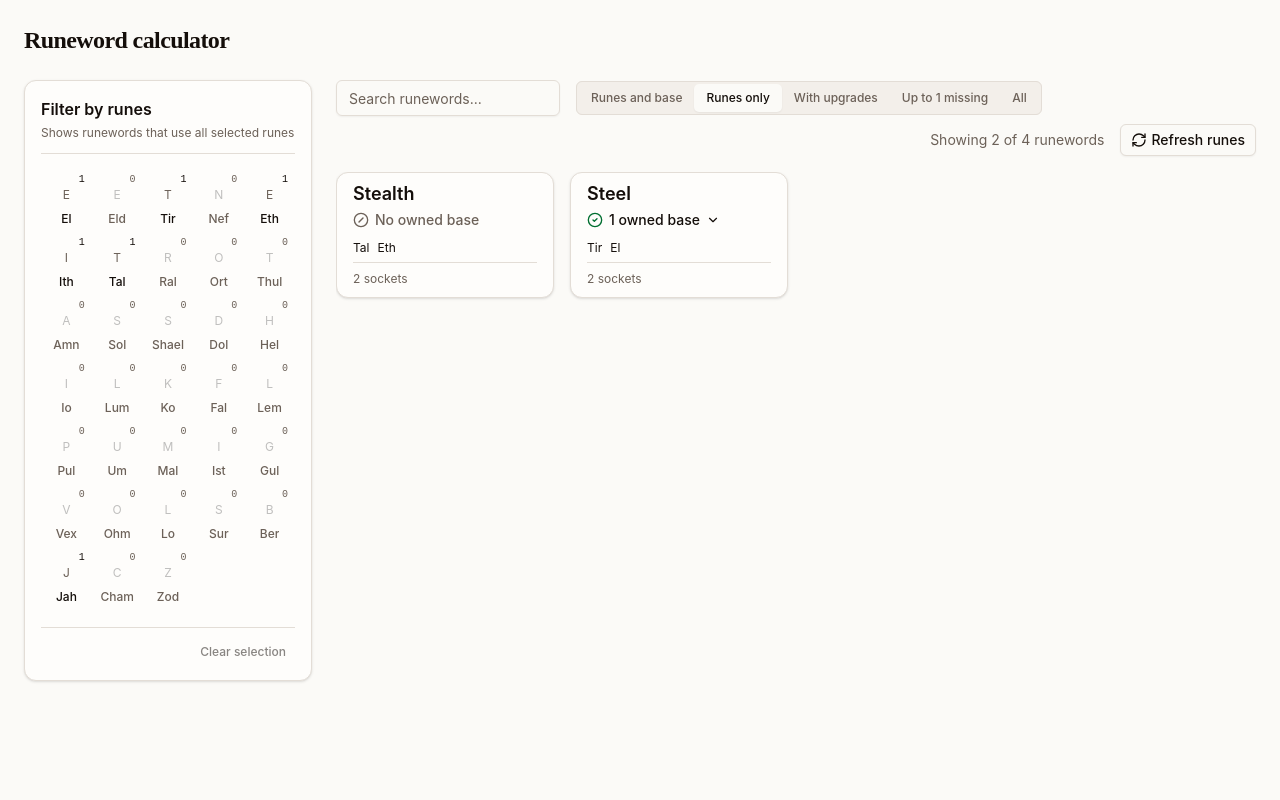
Test: RunewordCalculator › readiness › When an owned base is expanded, then it shows its name, ethereal flag and location
Check: the text "Showing 2 of 4 runewords" is shown, box [930,130,1104,150]
Click the button "1 owned base": click(653, 220) [587,210,720,230]
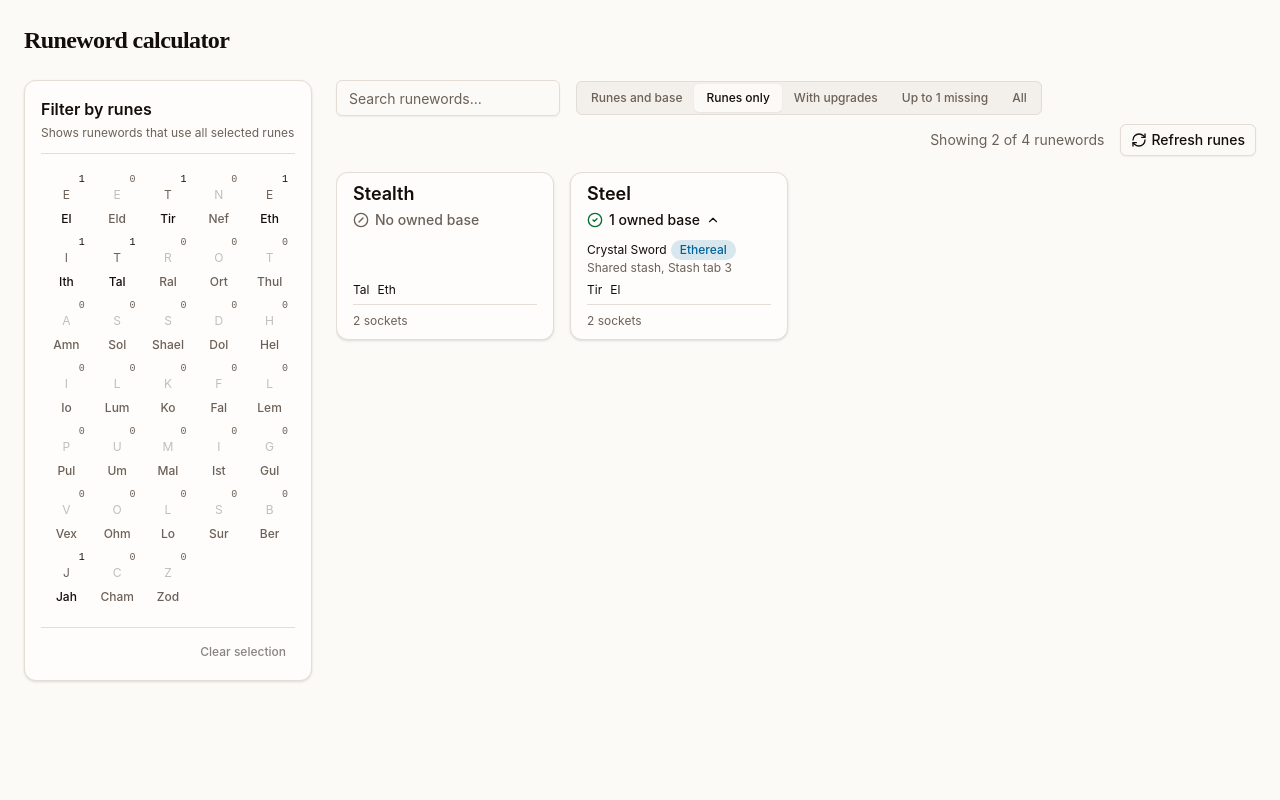
Check: the text "Crystal Sword" is shown, box [587,242,667,258]
Check: the text "Ethereal" is shown, box [671,240,736,260]
Check: the text "Shared stash, Stash tab 3" is shown, box [587,260,732,274]
